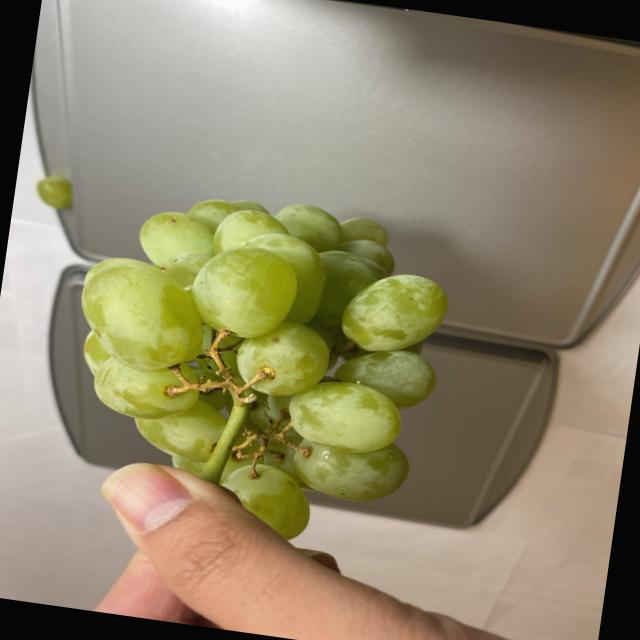grapes: (47, 168, 465, 561)
